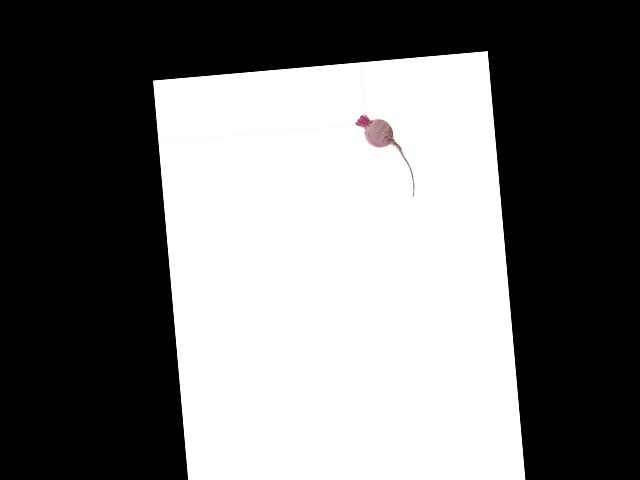beet: (354, 111, 415, 202)
